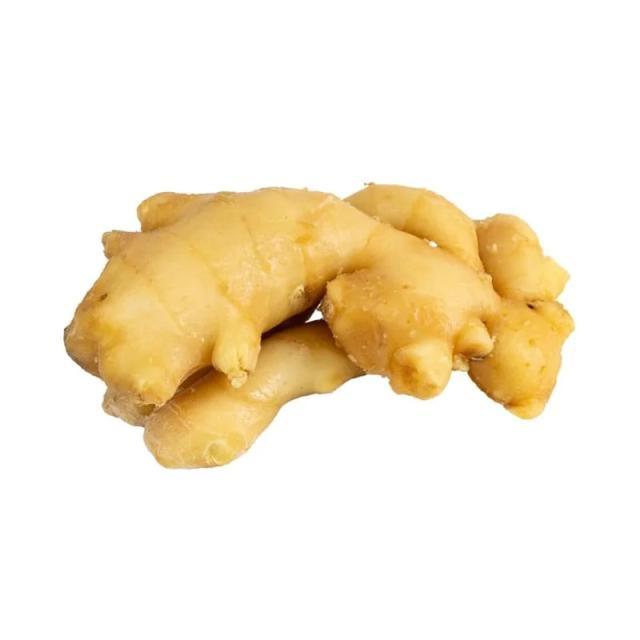ginger-root: (46, 148, 596, 490)
